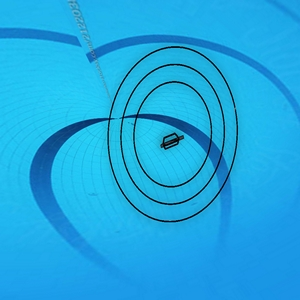circle: (98, 41, 240, 225)
submarine: (157, 130, 183, 153)
